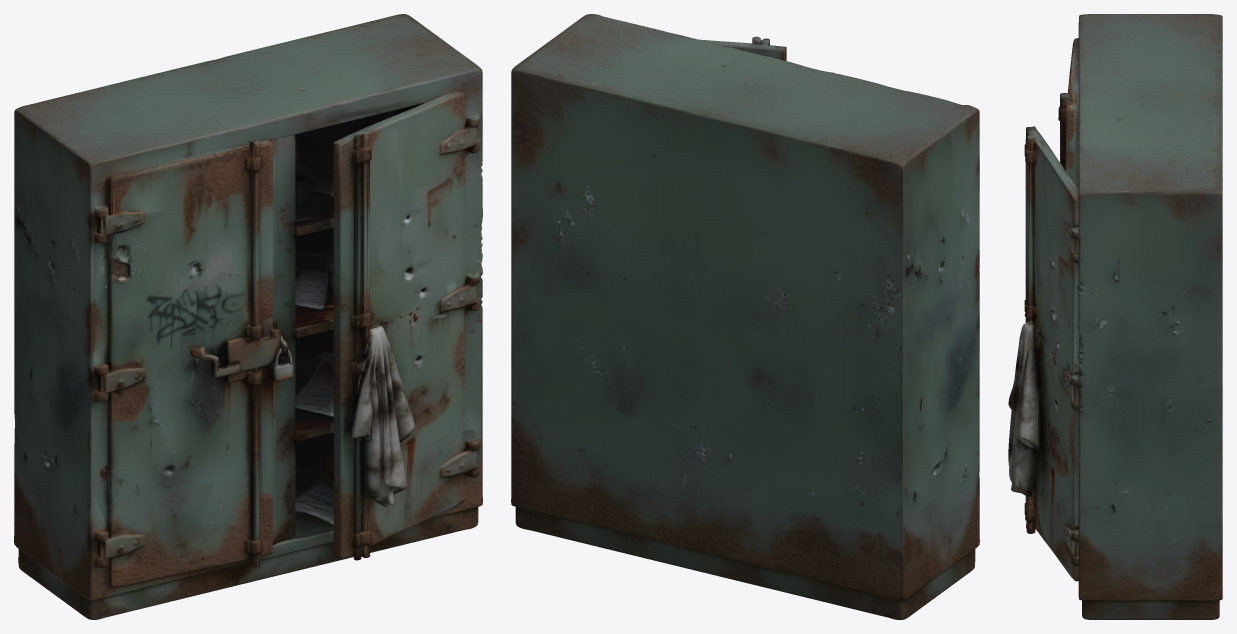
The model's file is TuNhoo.fbx.
3 views of the same model, side by side, from view 1: azimuth 30°, elevation 25°; view 2: azimuth 150°, elevation 25°; view 3: azimuth 270°, elevation 25° (orthographic). The views are drawn at different scales.
Parts seen in each view (by area): view 1: node_0; view 2: node_0; view 3: node_0.
Boxes of the visible parts, box(x1,y1,x2,y2) form: node_0: box(14, 14, 482, 619); node_0: box(511, 14, 979, 619); node_0: box(1008, 14, 1222, 619).
Bounding box in the file's own units: 89.55 × 100 × 45.23.
1 material, 1 textured.
